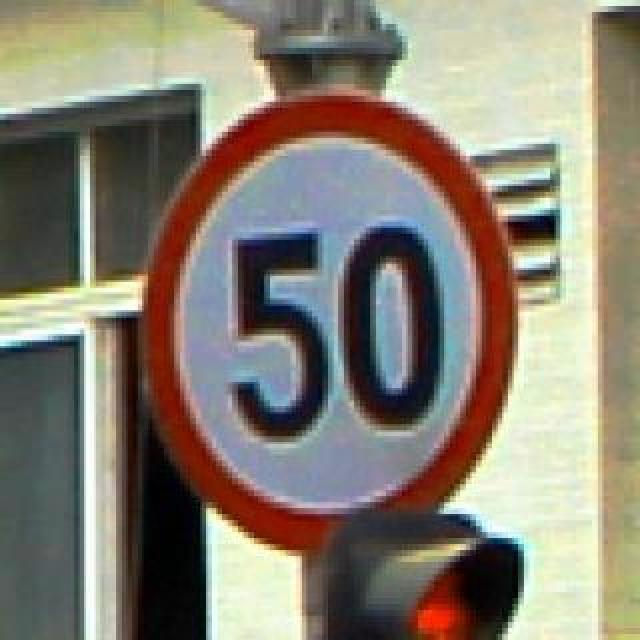50 kph: (132, 84, 512, 556)
